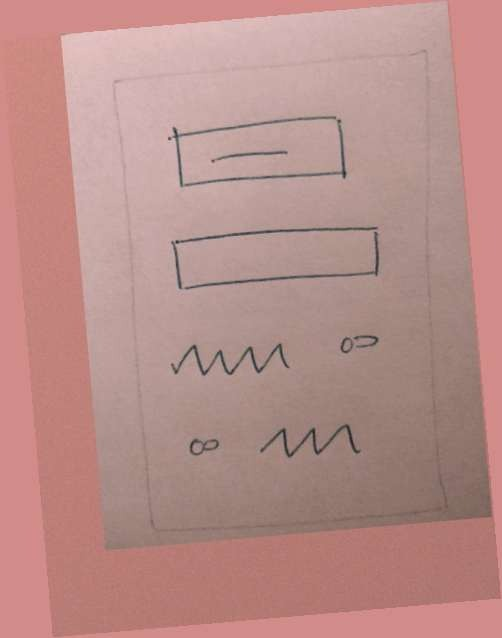button: (158, 104, 364, 200)
switch: (178, 425, 236, 469), (330, 322, 389, 362)
text: (162, 329, 300, 393), (252, 409, 371, 467)
text_input: (154, 214, 396, 315)
